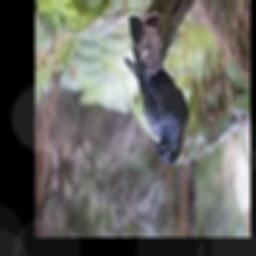Crow: (124, 46, 189, 164)
